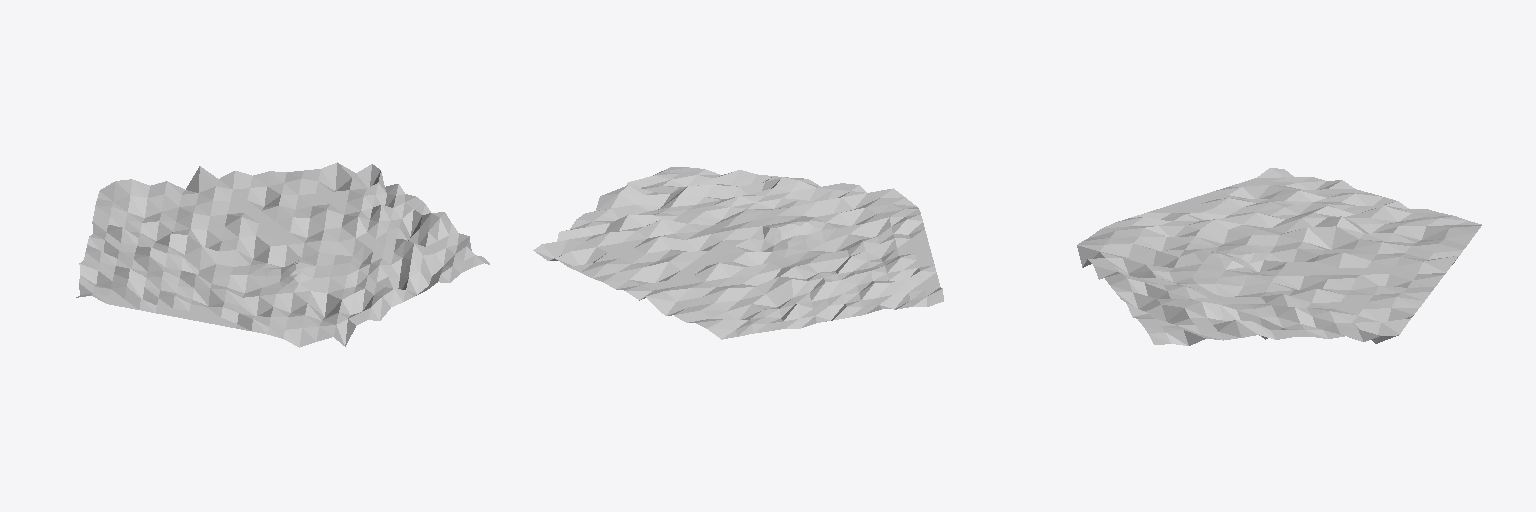
The model's file is new_simplex.obj.
3 views of the same model, side by side, from view 1: azimuth 30°, elevation 25°; view 2: azimuth 150°, elevation 25°; view 3: azimuth 270°, elevation 25° (orthographic).
Size of the model in its own units: 3.14 by 0.2782 by 3.1.